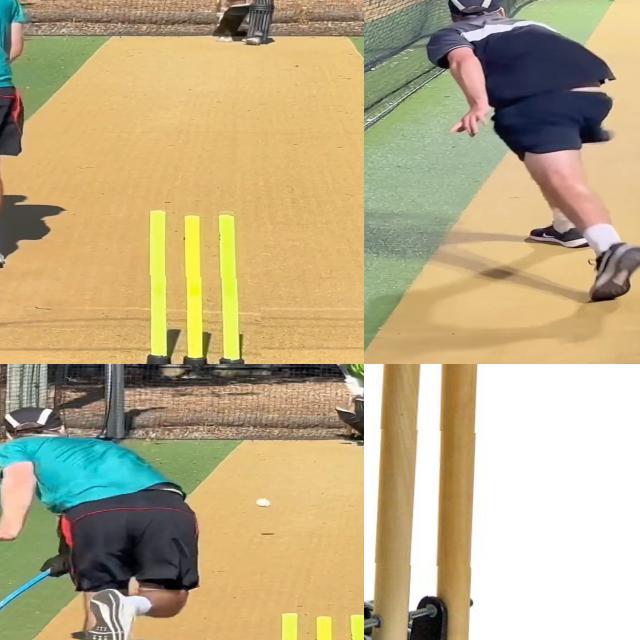Cricket ball: (254, 497, 273, 508)
Stumps: (364, 364, 489, 640), (128, 206, 261, 364)
